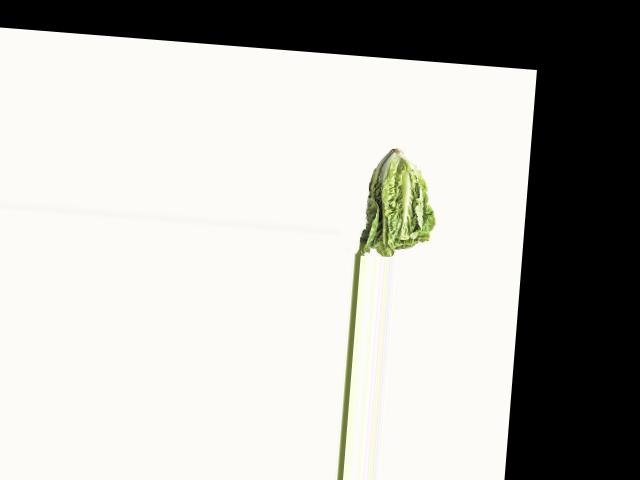lettuce: (358, 149, 444, 260)
